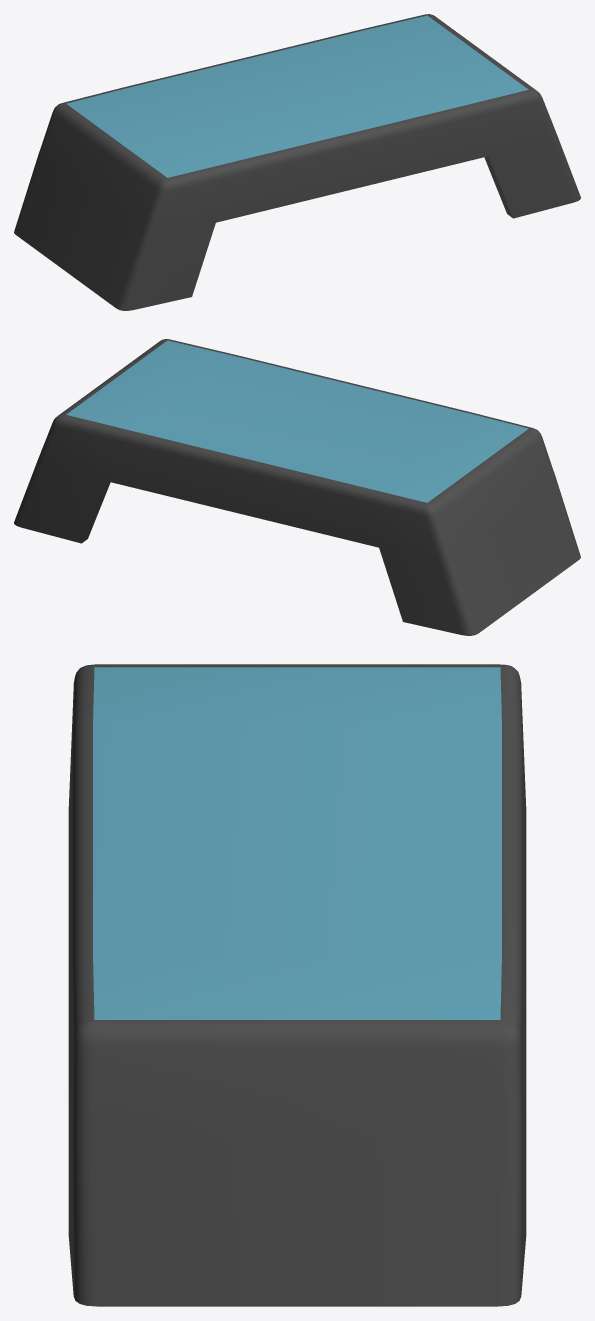
File: Aerobic step.FBX
3 renders of one model, top to bottom at view 1: azimuth 30°, elevation 25°; view 2: azimuth 150°, elevation 25°; view 3: azimuth 270°, elevation 25°, orthographic. The views are drawn at different scales.
Visible parts, largest first — view 1: aerobic step; view 2: aerobic step; view 3: aerobic step.
Boxes of the visible parts, x1=… form: aerobic step: x1=14, y1=14, x2=580, y2=310; aerobic step: x1=14, y1=339, x2=580, y2=635; aerobic step: x1=68, y1=664, x2=526, y2=1306.
Size of the model in its own units: 73.37 by 18.05 by 31.39.
1 material, 1 textured.
